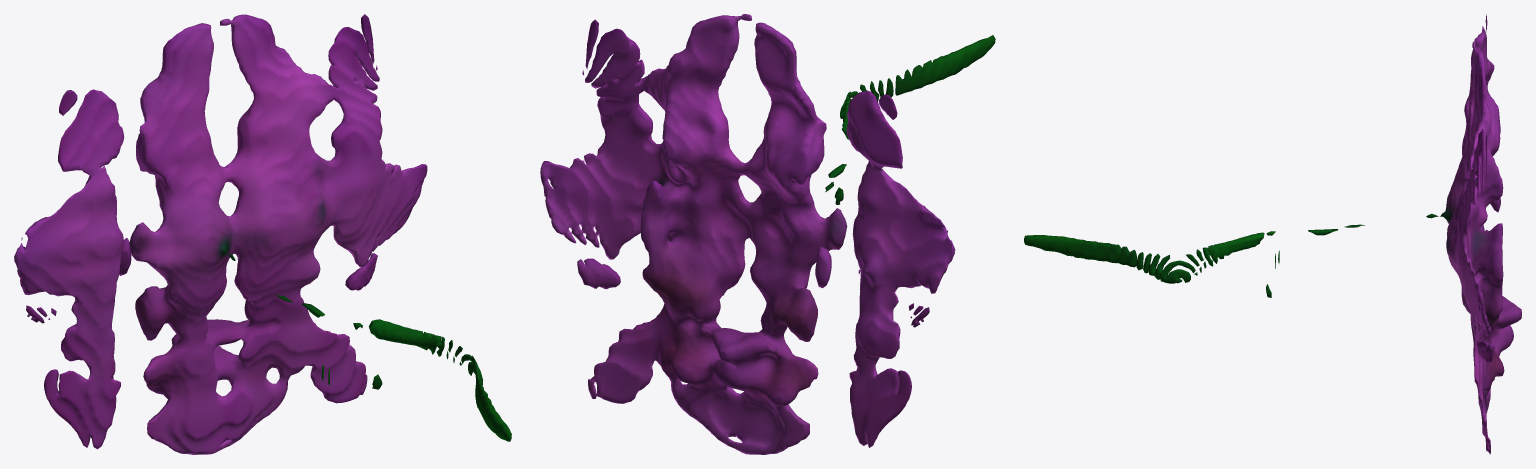
3 renders of one model, left to right at view 1: azimuth 30°, elevation 25°; view 2: azimuth 150°, elevation 25°; view 3: azimuth 270°, elevation 25°, orthographic. The views are drawn at different scales.
Visible parts, largest first — view 1: plyFile; view 2: plyFile; view 3: plyFile.
Part boxes in pixels (x1=…): plyFile: x1=14, y1=14, x2=511, y2=454; plyFile: x1=540, y1=14, x2=995, y2=454; plyFile: x1=1024, y1=14, x2=1521, y2=454.
Size of the model in its own units: 160 by 161 by 197.
